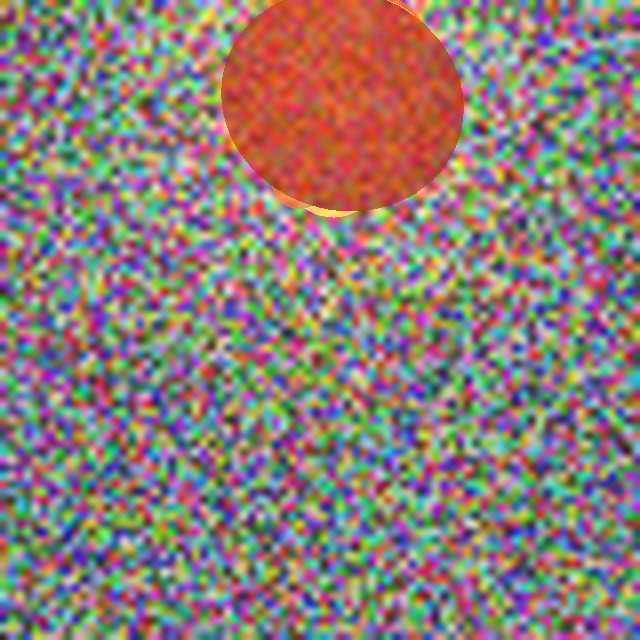fire: (215, 12, 443, 224)
